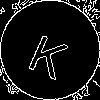K: (25, 25, 75, 80)
